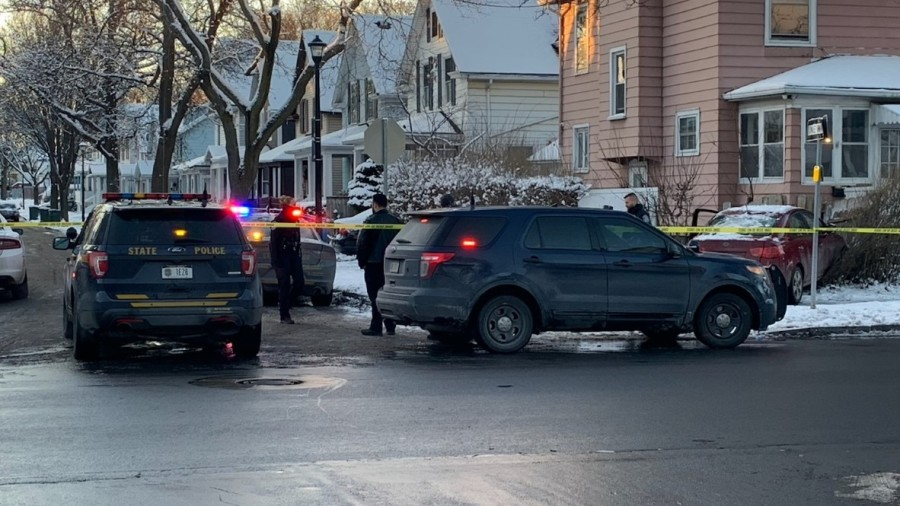car: (375, 207, 780, 349), (55, 194, 265, 360)
